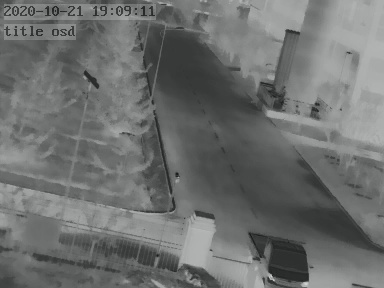vehicle: (248, 233, 311, 288)
